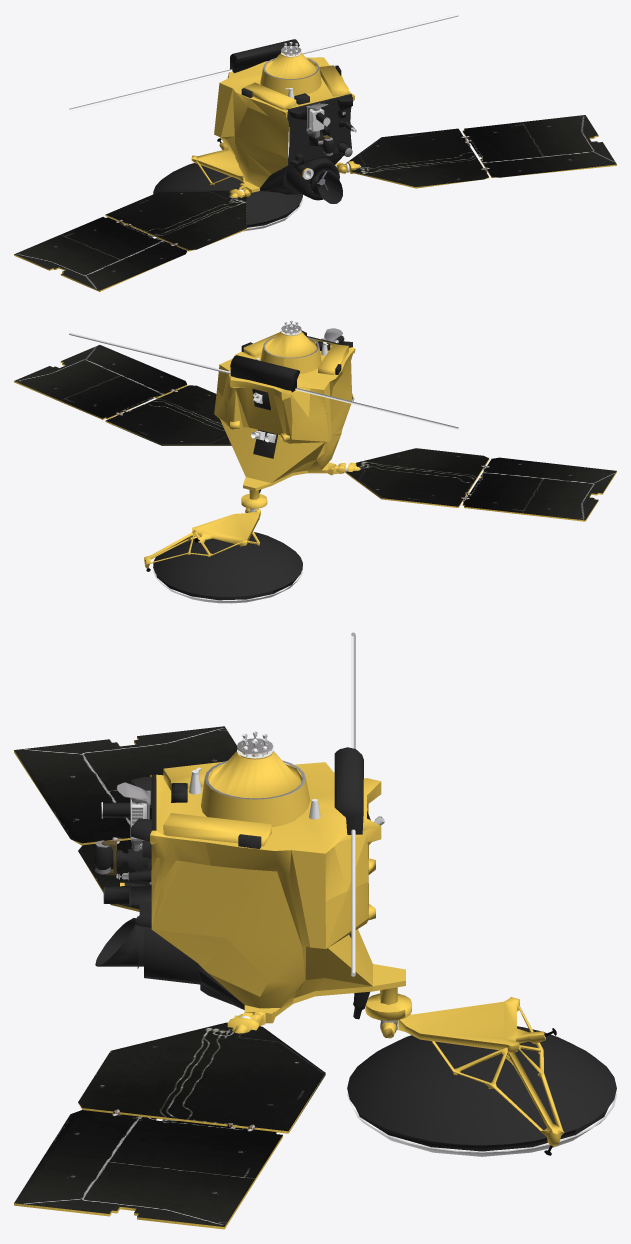
File: mro.glb
The picture shows the model from 3 angles, top to bottom: view 1: azimuth 30°, elevation 25°; view 2: azimuth 150°, elevation 25°; view 3: azimuth 270°, elevation 25°; orthographic projection. The views are drawn at different scales.
Size of what is drawn, in the model's own units: 13.18 by 4.88 by 6.71.
10 materials, 3 textured.
